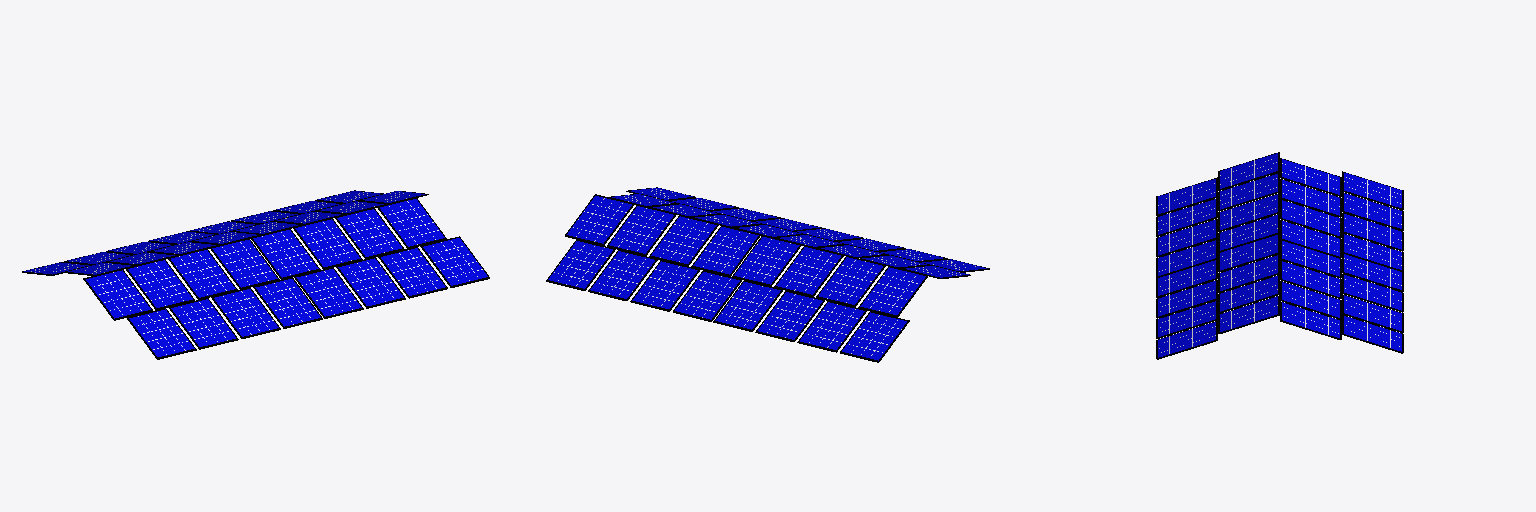
Rendered from panneau_solaire.obj.
The picture shows the model from 3 angles: view 1: azimuth 30°, elevation 25°; view 2: azimuth 150°, elevation 25°; view 3: azimuth 270°, elevation 25°; orthographic projection.
Parts seen in each view (by area): view 1: Plane.019_Plane.054; view 2: Plane.019_Plane.054; view 3: Plane.019_Plane.054.
Part boxes in pixels (x1,y1,x2,y2): Plane.019_Plane.054: (22,190,489,359); Plane.019_Plane.054: (546,187,989,362); Plane.019_Plane.054: (1156,152,1403,359).
Bounding box in the file's own units: 5.88 × 0.6472 × 3.65.